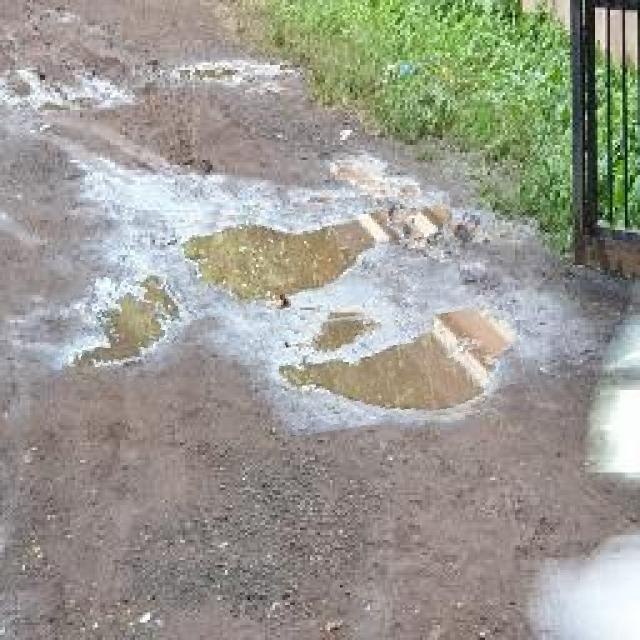puddle: (266, 303, 525, 431), (178, 199, 458, 313), (65, 265, 187, 388)
